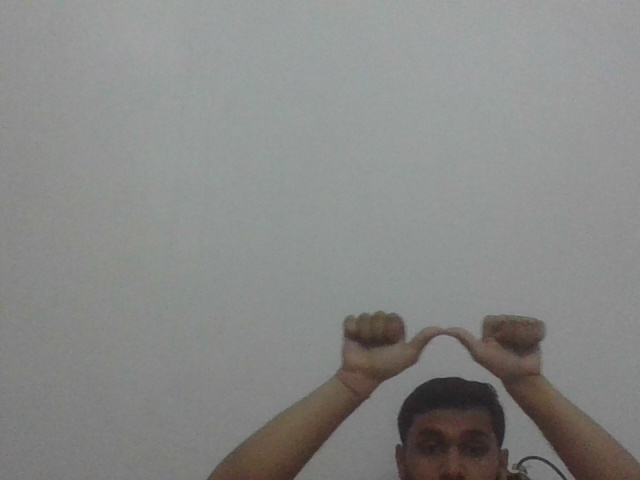A: (334, 309, 551, 376)
